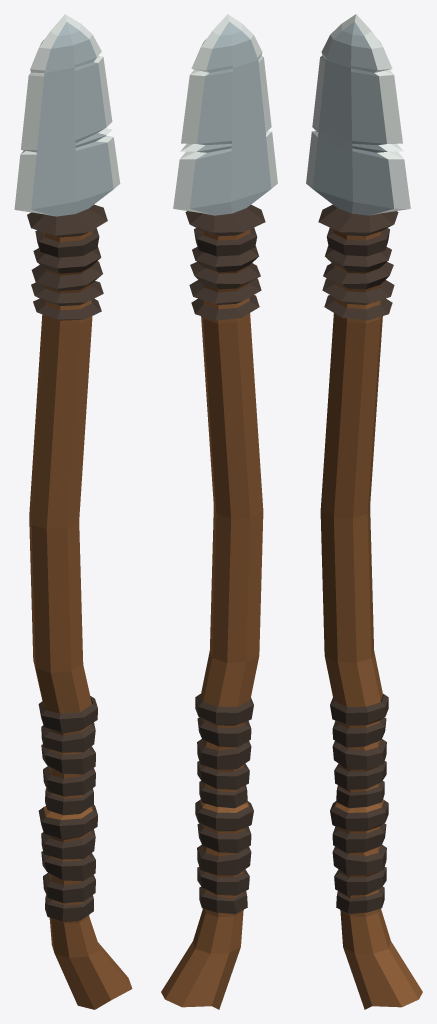
Rendered from spear.glb.
3 renders of one model, left to right at view 1: azimuth 30°, elevation 25°; view 2: azimuth 210°, elevation 25°; view 3: azimuth 330°, elevation 25°, orthographic.
Parts seen in each view (by area): view 1: Spear; view 2: Spear; view 3: Spear.
Boxes of the visible parts, x1,y1,x2,y2 form: Spear: [14, 14, 132, 1009]; Spear: [161, 14, 277, 1009]; Spear: [306, 14, 422, 1009].
Bounding box in the file's own units: 1.17 × 9.72 × 0.7147.
